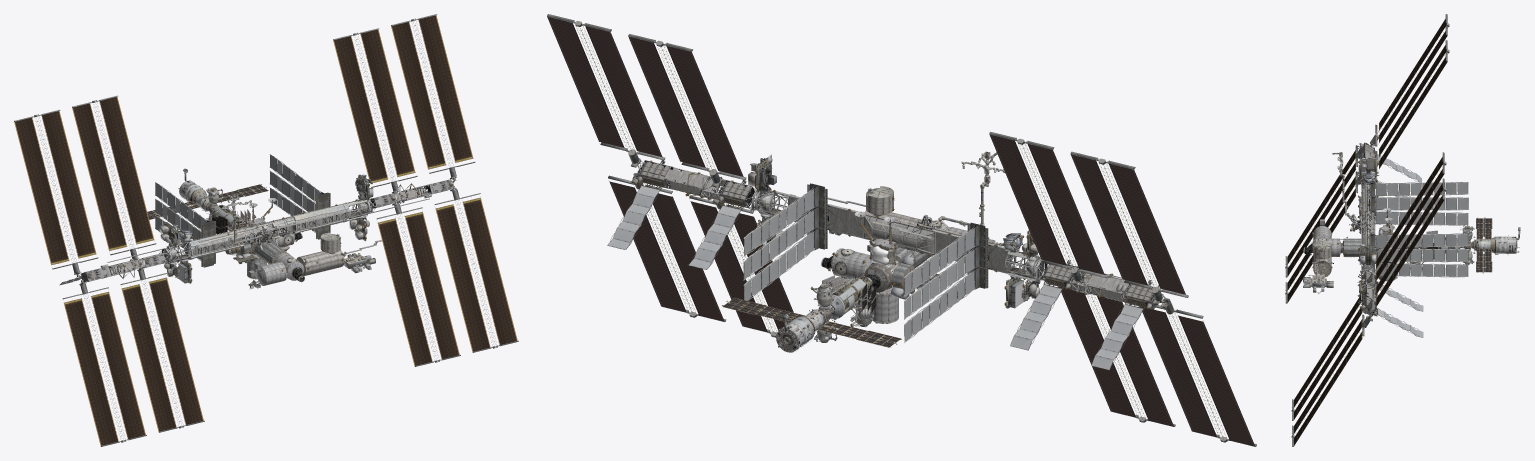
3 renders of one model, left to right at view 1: azimuth 30°, elevation 25°; view 2: azimuth 150°, elevation 25°; view 3: azimuth 270°, elevation 25°, orthographic. The views are drawn at different scales.
Visible parts, largest first — view 1: panel_01_p.001, 01 Zarya - (FGB) Funtional Cargo Block, 14 S0 Truss, 15 (MBS) Mobile Base System, 02 Unity Node 1, 09 Destiny Space Laboratory, 06 Z1 Truss, 05 Zvezda (SM) Service Module, 39 Rassvet (MRM-1) Mini Research Module, 25 (ESP) External Stowage Platform 3; view 2: 01 Zarya - (FGB) Funtional Cargo Block, 14 S0 Truss, 02 Unity Node 1, 15 (MBS) Mobile Base System, 06 Z1 Truss, 05 Zvezda (SM) Service Module, panel_01_p.001, 09 Destiny Space Laboratory, 39 Rassvet (MRM-1) Mini Research Module; view 3: panel_01_p.001, 01 Zarya - (FGB) Funtional Cargo Block, 14 S0 Truss, 15 (MBS) Mobile Base System, 02 Unity Node 1, 05 Zvezda (SM) Service Module, 09 Destiny Space Laboratory, 06 Z1 Truss, 25 (ESP) External Stowage Platform 3, 39 Rassvet (MRM-1) Mini Research Module.
Part boxes in pixels (box(x1,y1,x2,y2)): panel_01_p.001: box(14, 15, 517, 445); 01 Zarya - (FGB) Funtional Cargo Block: box(36, 25, 494, 436); 14 S0 Truss: box(14, 14, 518, 446); 15 (MBS) Mobile Base System: box(107, 154, 430, 267); 02 Unity Node 1: box(81, 177, 453, 285); 09 Destiny Space Laboratory: box(229, 232, 344, 275); 06 Z1 Truss: box(62, 179, 454, 288); 05 Zvezda (SM) Service Module: box(164, 188, 375, 273); 39 Rassvet (MRM-1) Mini Research Module: box(229, 216, 340, 255); 25 (ESP) External Stowage Platform 3: box(165, 216, 370, 285); 01 Zarya - (FGB) Funtional Cargo Block: box(547, 17, 1255, 446); 14 S0 Truss: box(547, 14, 1256, 446); 02 Unity Node 1: box(637, 159, 1159, 352); 15 (MBS) Mobile Base System: box(714, 185, 1122, 342); 06 Z1 Truss: box(610, 160, 1164, 364); 05 Zvezda (SM) Service Module: box(757, 151, 1036, 341); panel_01_p.001: box(722, 284, 901, 347); 09 Destiny Space Laboratory: box(865, 186, 928, 288); 39 Rassvet (MRM-1) Mini Research Module: box(850, 188, 935, 327); panel_01_p.001: box(1287, 19, 1492, 445); 01 Zarya - (FGB) Funtional Cargo Block: box(1288, 31, 1520, 432); 14 S0 Truss: box(1285, 14, 1449, 446); 15 (MBS) Mobile Base System: box(1349, 151, 1468, 299); 02 Unity Node 1: box(1303, 143, 1516, 316); 05 Zvezda (SM) Service Module: box(1303, 152, 1474, 292); 09 Destiny Space Laboratory: box(1313, 238, 1375, 277); 06 Z1 Truss: box(1341, 142, 1419, 336); 25 (ESP) External Stowage Platform 3: box(1303, 158, 1379, 297); 39 Rassvet (MRM-1) Mini Research Module: box(1320, 210, 1422, 272).
Bounding box in the file's own units: 112 × 68.79 × 58.62.
Materials: 27 (21 with a texture image).
